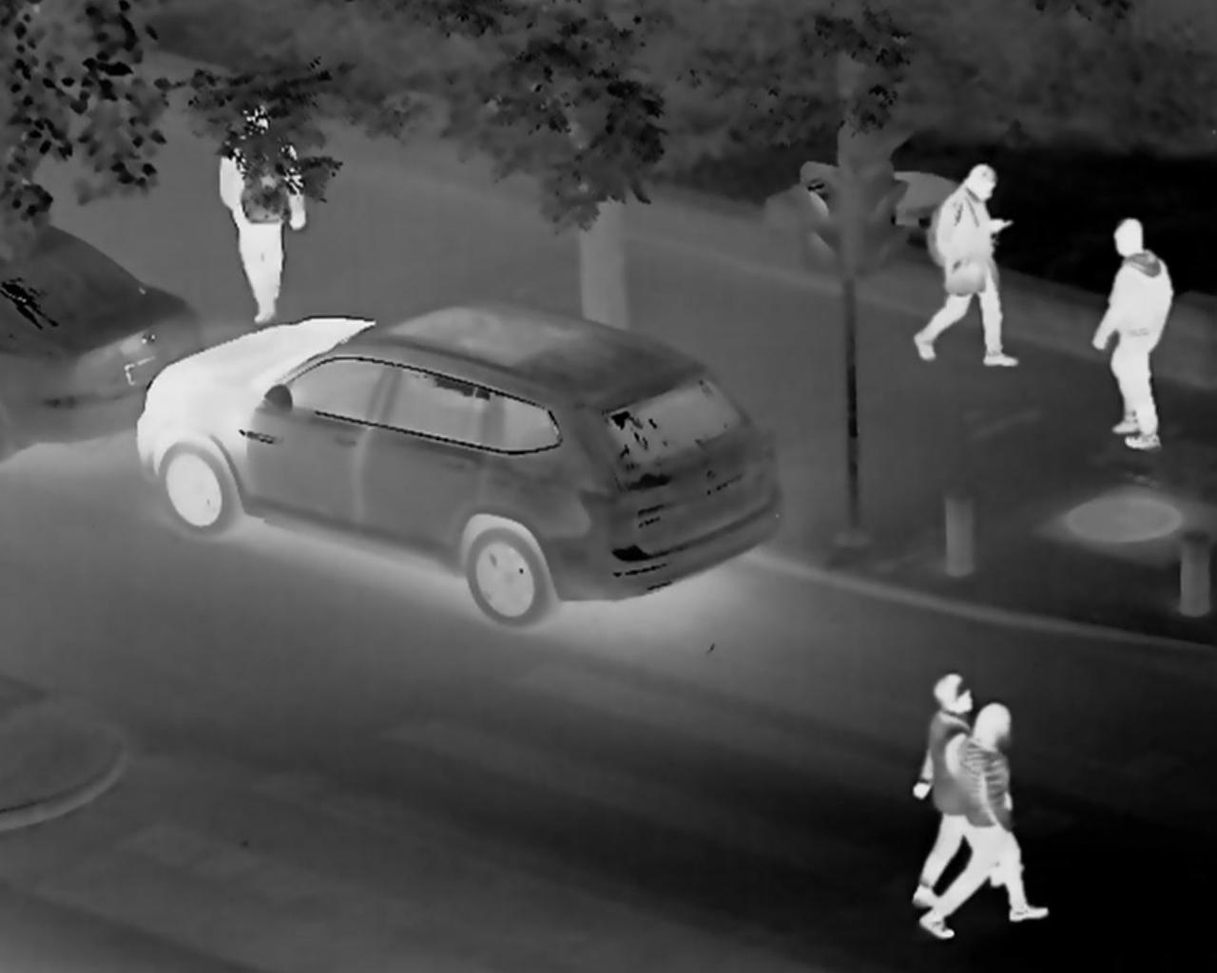person: (947, 689, 1037, 932), (935, 153, 1024, 395), (217, 113, 319, 315), (1097, 214, 1176, 460), (931, 674, 955, 886)
